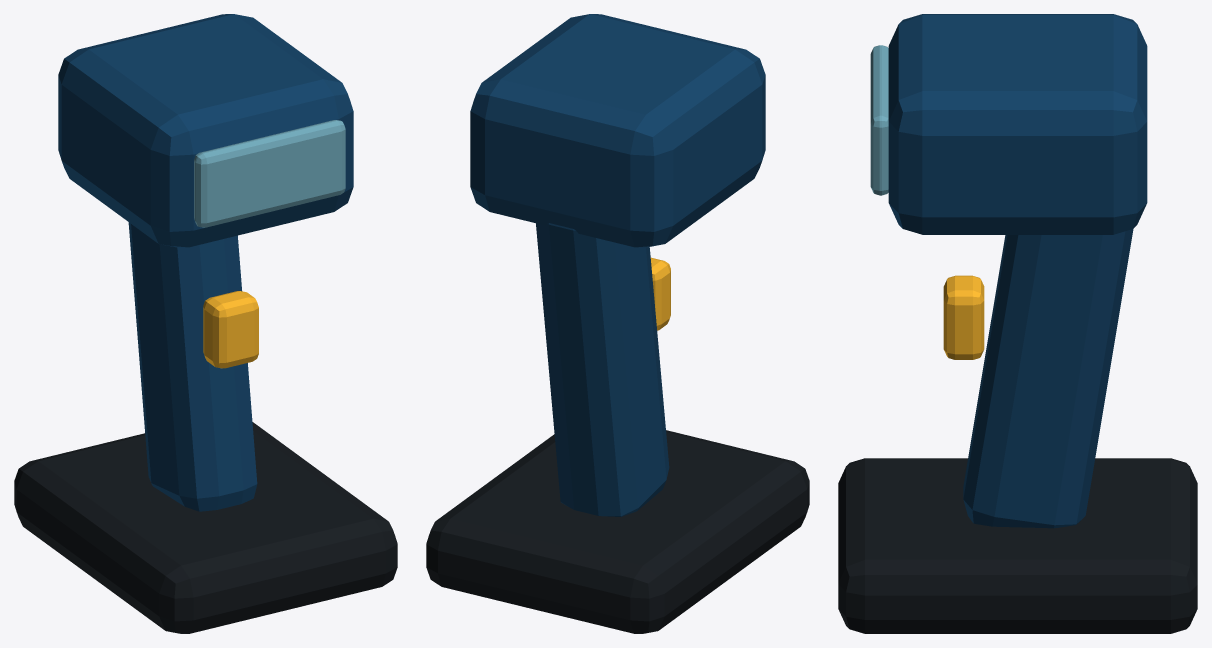
The model's file is edited.glb.
3 views of the same model, side by side, from view 1: azimuth 30°, elevation 25°; view 2: azimuth 150°, elevation 25°; view 3: azimuth 270°, elevation 25° (orthographic). The views are drawn at different scales.
Visible parts, largest first — view 1: STAND_Base, SCAN_Head, GRIP_Handle, SCAN_Window, TRIGGER_Button; view 2: SCAN_Head, STAND_Base, GRIP_Handle, TRIGGER_Button; view 3: SCAN_Head, STAND_Base, GRIP_Handle, TRIGGER_Button, SCAN_Window.
Part boxes in pixels (x1,y1,x2,y2): STAND_Base: [14, 422, 397, 633]; SCAN_Head: [58, 14, 353, 247]; GRIP_Handle: [128, 222, 257, 511]; SCAN_Window: [194, 120, 345, 227]; TRIGGER_Button: [203, 291, 258, 368]; SCAN_Head: [470, 14, 765, 247]; STAND_Base: [426, 430, 809, 633]; GRIP_Handle: [536, 223, 669, 516]; TRIGGER_Button: [650, 257, 670, 330]; SCAN_Head: [888, 14, 1147, 234]; STAND_Base: [838, 458, 1197, 633]; GRIP_Handle: [963, 229, 1133, 528]; TRIGGER_Button: [943, 275, 984, 359]; SCAN_Window: [870, 45, 888, 195].
Bounding box in the file's own units: 0.13 × 0.26 × 0.16.
